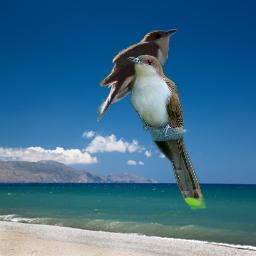Cuckoo: (126, 54, 206, 210), (97, 28, 178, 125)
